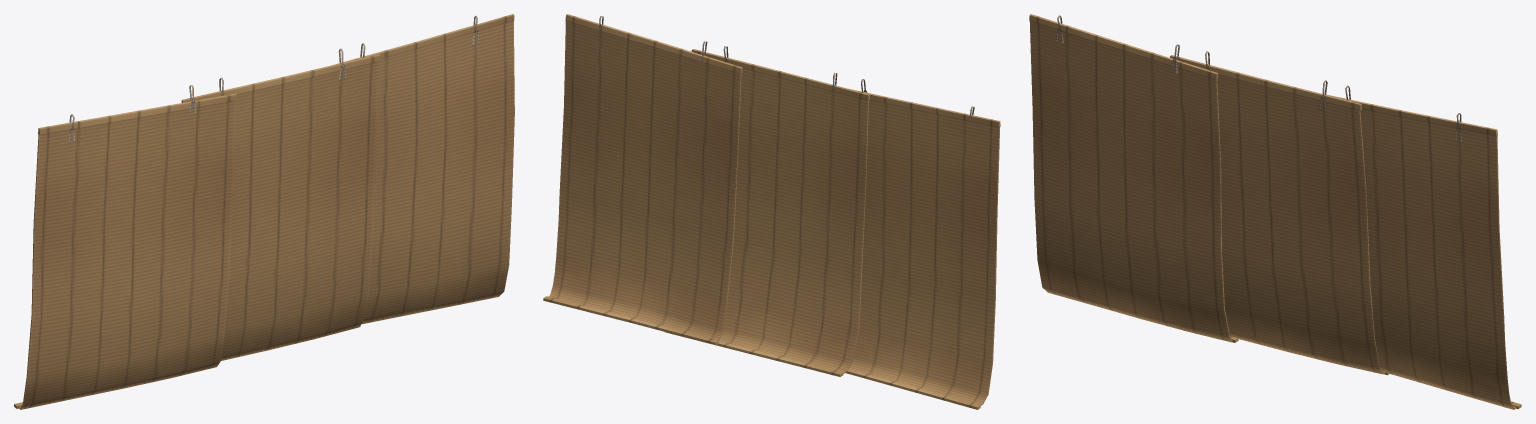
The model's file is jsf_BackSide_s03_c07.fbx.
3 renders of one model, left to right at view 1: azimuth 30°, elevation 25°; view 2: azimuth 150°, elevation 25°; view 3: azimuth 330°, elevation 25°, orthographic. The views are drawn at different scales.
Visible parts, largest first — view 1: jsf_BackSide_s03_c07; view 2: jsf_BackSide_s03_c07; view 3: jsf_BackSide_s03_c07.
Boxes of the visible parts, x1,y1,x2,y2 form: jsf_BackSide_s03_c07: [14, 14, 514, 409]; jsf_BackSide_s03_c07: [543, 14, 1000, 409]; jsf_BackSide_s03_c07: [1029, 14, 1521, 409].
Bounding box in the file's own units: 309 × 188 × 35.03.
